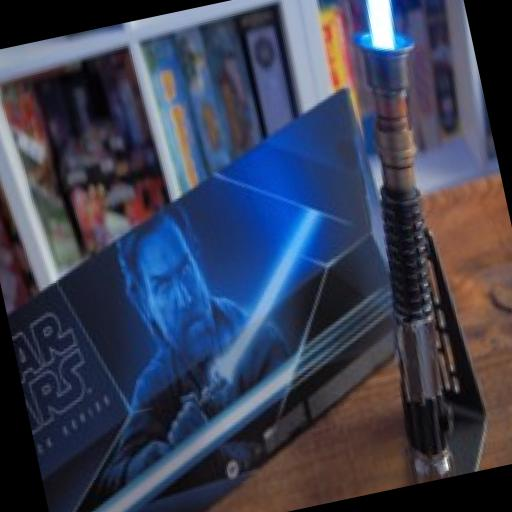human: (32, 191, 333, 512)
lightsaber: (312, 0, 499, 483), (164, 206, 358, 414)
